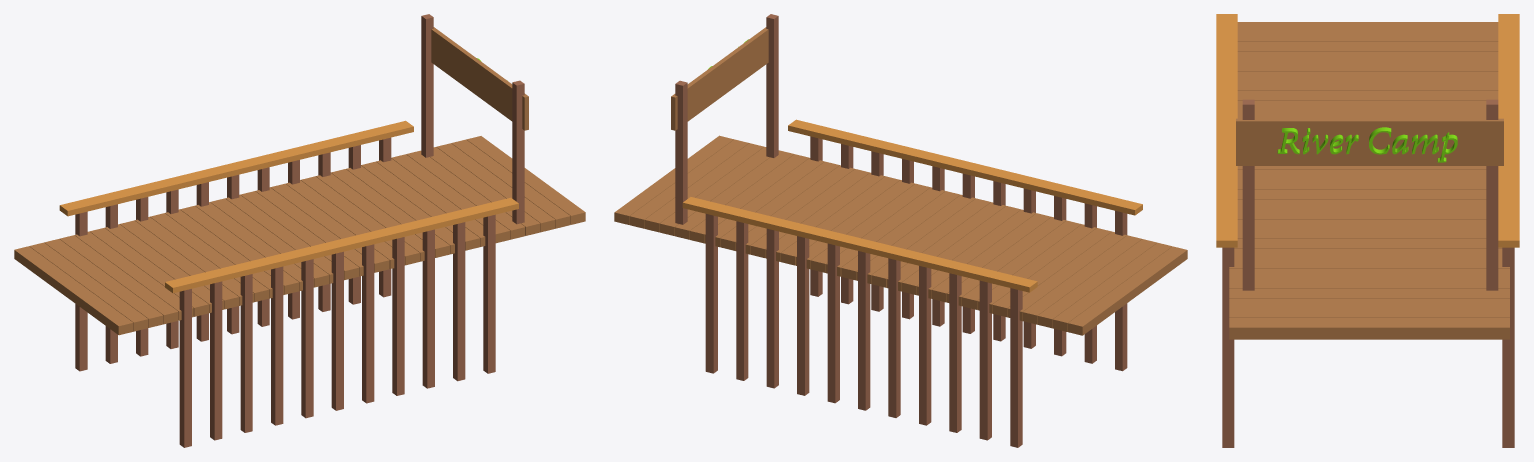
Rendered from Jembatan.fbx.
The picture shows the model from 3 angles, left to right: view 1: azimuth 30°, elevation 25°; view 2: azimuth 150°, elevation 25°; view 3: azimuth 270°, elevation 25°; orthographic projection. The views are drawn at different scales.
Visible parts, largest first — view 1: Jembatan, Penyanggah2, Pegangan, Penyanggah, Tiang, Papan; view 2: Jembatan, Penyanggah, Pegangan, Penyanggah2, Tiang, Papan; view 3: Jembatan, Papan, Pegangan, Tiang, Penyanggah2, Text, Penyanggah.
Part boxes in pixels (<box>): Jembatan: <box>14,136,585,335</box>; Penyanggah2: <box>179,214,495,447</box>; Pegangan: <box>59,120,518,293</box>; Penyanggah: <box>75,137,391,371</box>; Tiang: <box>421,14,524,224</box>; Papan: <box>431,27,528,130</box>; Jembatan: <box>614,135,1187,335</box>; Penyanggah: <box>705,214,1022,447</box>; Pegangan: <box>682,119,1142,292</box>; Penyanggah2: <box>810,136,1127,371</box>; Tiang: <box>675,14,778,224</box>; Papan: <box>671,27,768,130</box>; Jembatan: <box>1229,22,1509,339</box>; Papan: <box>1236,118,1503,165</box>; Pegangan: <box>1216,14,1519,247</box>; Tiang: <box>1242,99,1498,290</box>; Penyanggah2: <box>1222,247,1234,447</box>; Text: <box>1277,127,1457,162</box>; Penyanggah: <box>1502,247,1514,447</box>.
Bounding box in the file's own units: 5397 × 3024 × 2264.
